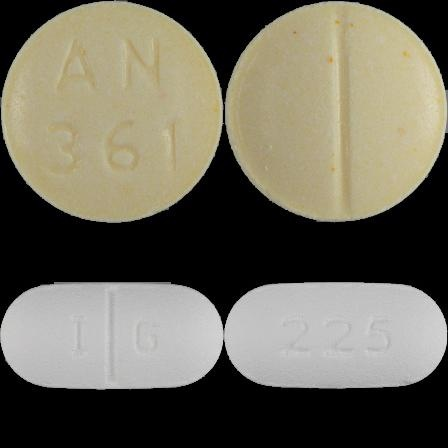50268-345: (0, 0, 224, 224)
